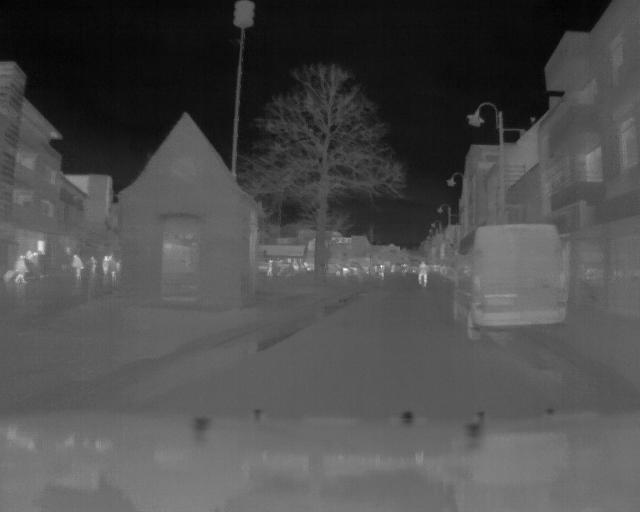car: (451, 225, 571, 342)
person: (8, 251, 30, 287), (413, 257, 429, 290), (70, 250, 85, 282)
